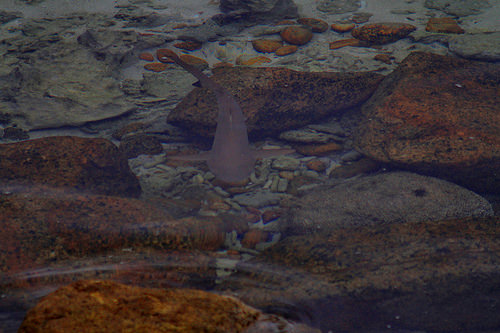shark: (149, 35, 316, 194)
